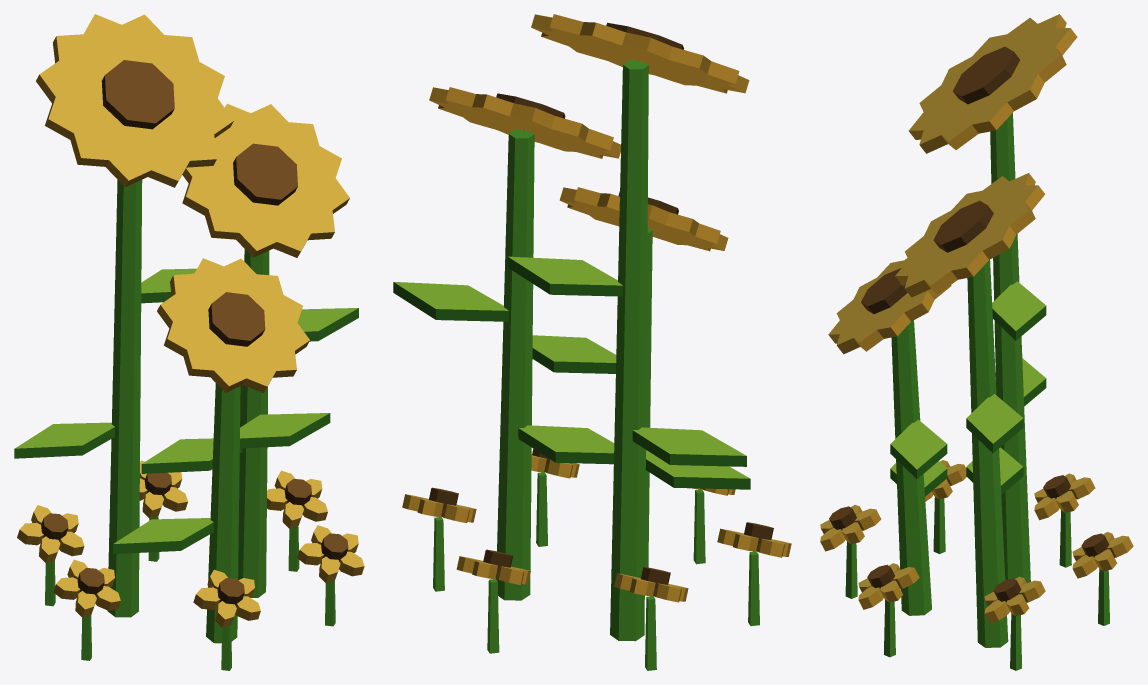
File: sunflower_cluster.fbx
The picture shows the model from 3 angles, left to right: view 1: azimuth 30°, elevation 25°; view 2: azimuth 150°, elevation 25°; view 3: azimuth 270°, elevation 25°; orthographic projection. The views are drawn at different scales.
Visible parts, largest first — view 1: sunflower_cluster; view 2: sunflower_cluster; view 3: sunflower_cluster.
Boxes of the visible parts, <box> form: sunflower_cluster: <box>14,14,364,670</box>; sunflower_cluster: <box>393,14,791,670</box>; sunflower_cluster: <box>820,14,1133,670</box>.
Bounding box in the file's own units: 0.49 × 0.812 × 0.4121.
